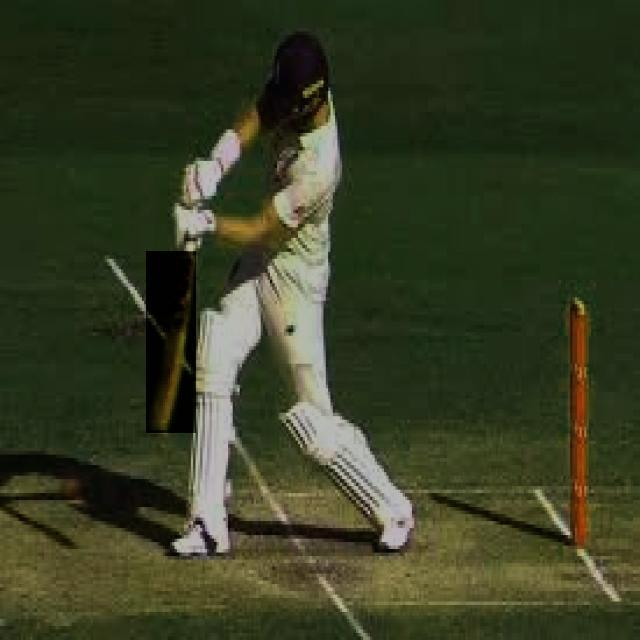bat: (149, 248, 199, 431)
